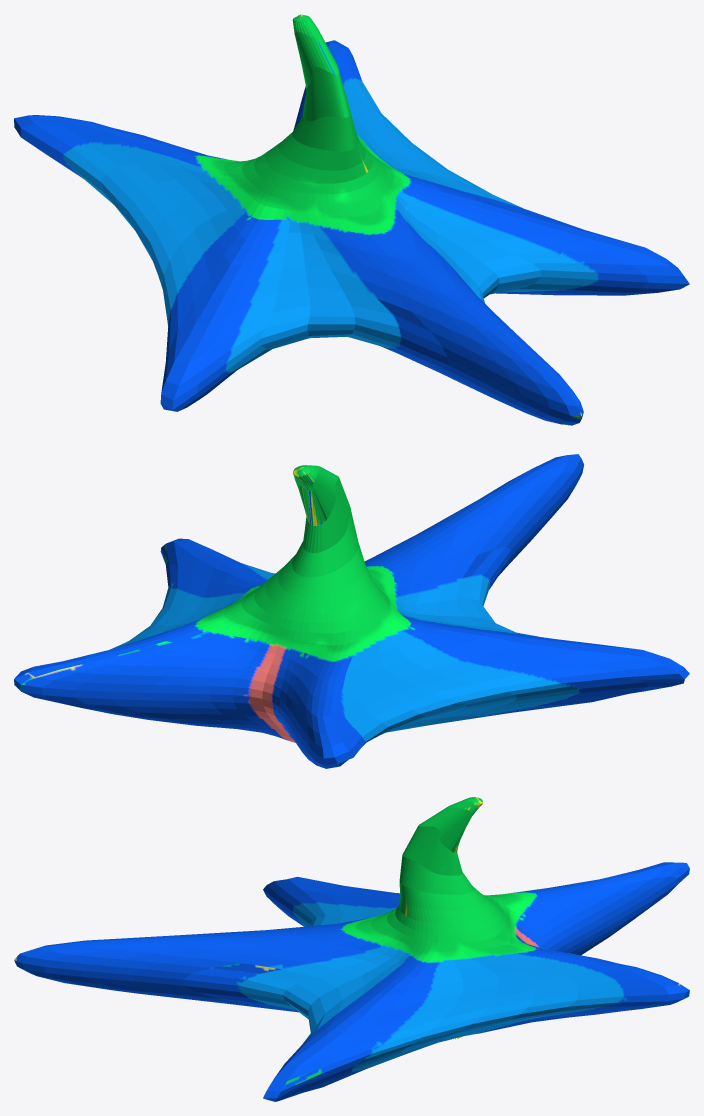
File: flower3zygo.fbx
3 renders of one model, top to bottom at view 1: azimuth 30°, elevation 25°; view 2: azimuth 150°, elevation 25°; view 3: azimuth 270°, elevation 25°, orthographic. The views are drawn at different scales.
Visible parts, largest first — view 1: Sphere; view 2: Sphere; view 3: Sphere.
Part boxes in pixels (<box>): Sphere: <box>14,14,689,425</box>; Sphere: <box>14,454,689,768</box>; Sphere: <box>14,797,689,1101</box>.
Bounding box in the file's own units: 6.62 × 3.49 × 8.96.
Materials: 1 (1 with a texture image).
